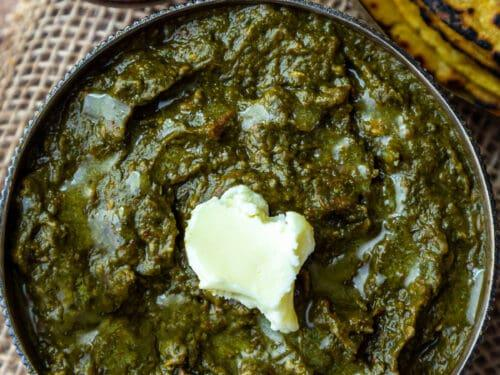saag: (14, 34, 469, 375)
